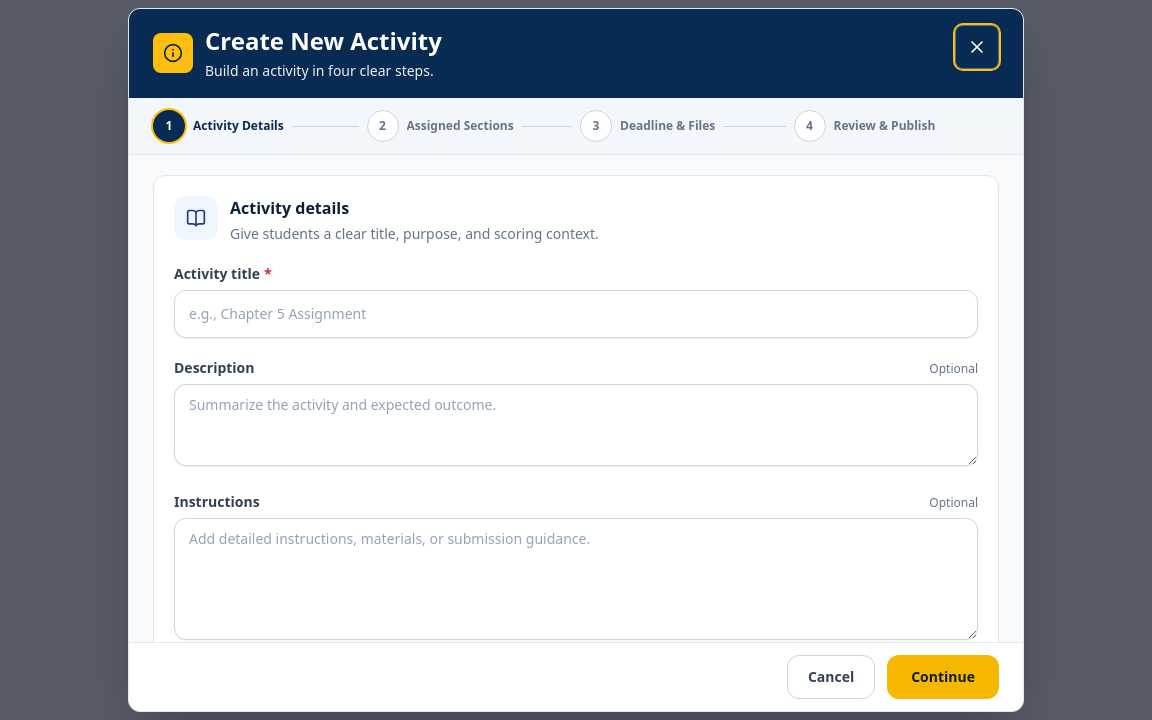
Scenario: ActivityFormWorkflow › recovers the Publish action after a request timeout without losing form data
The image size is (1152, 720).
Step 1. Type "Timeout-safe activity" into the field labelled "Activity title*" → (576,314), box [174,290,978,338]
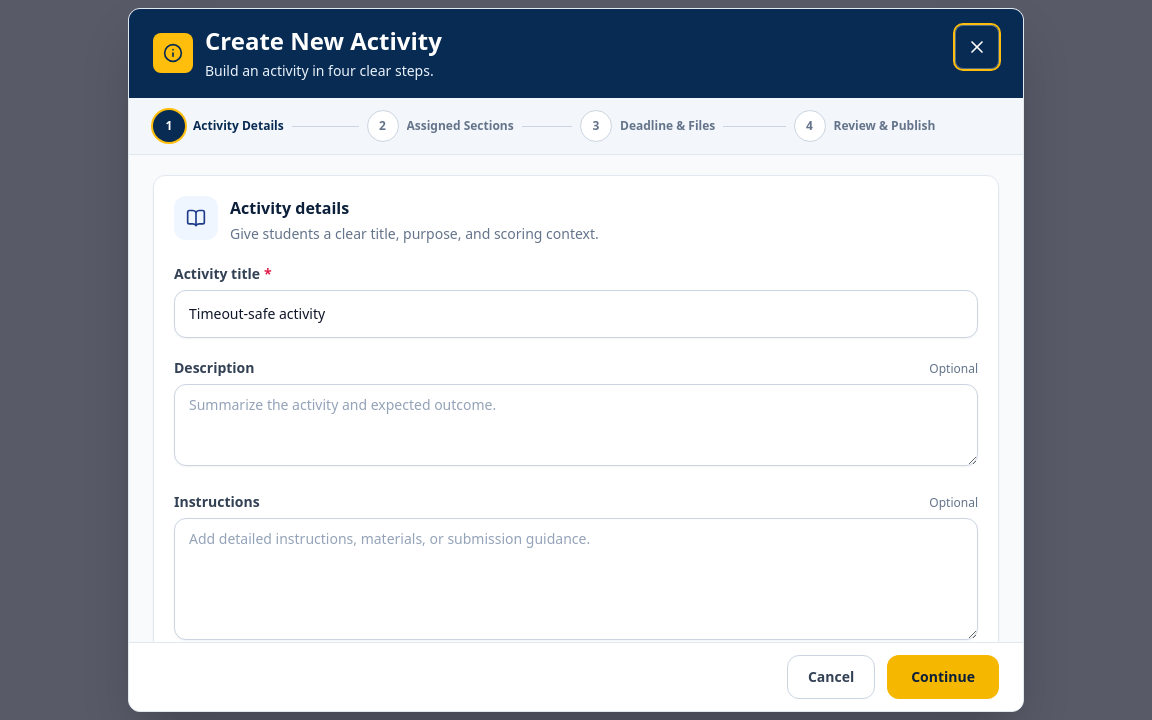
Step 2. Click the button "Continue" → (943,677), box [887,655,999,699]
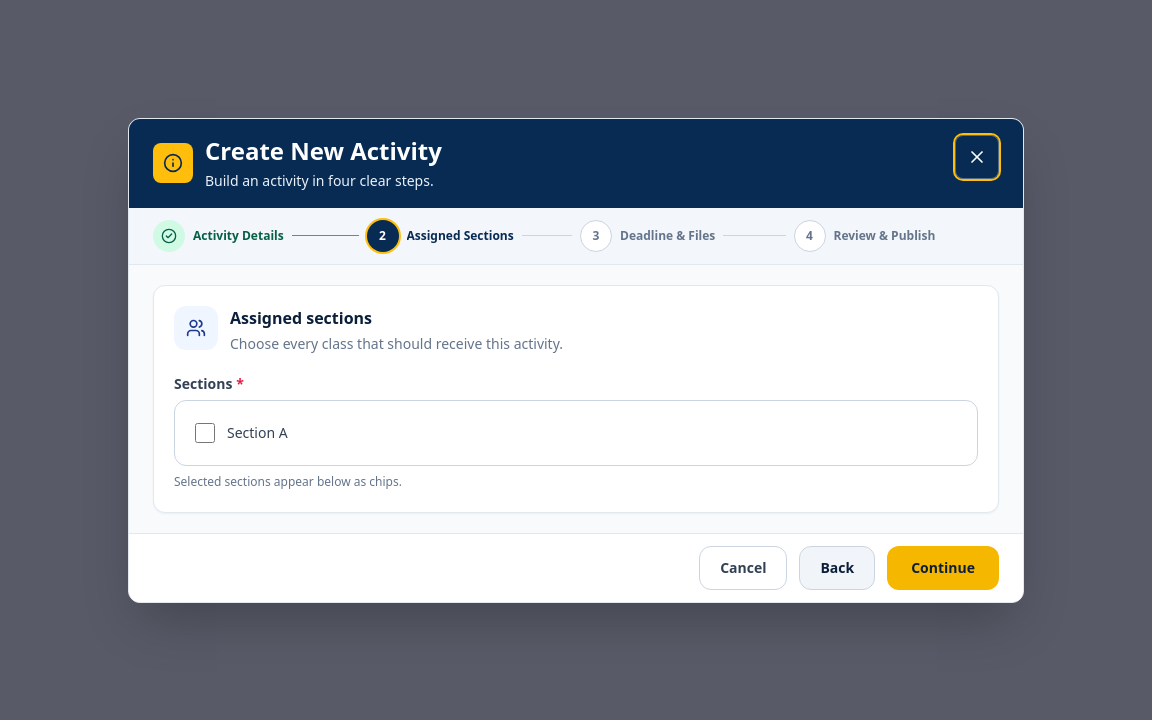
Step 3. Click the checkbox labelled "Section A" → (205,432), box [195,422,215,442]
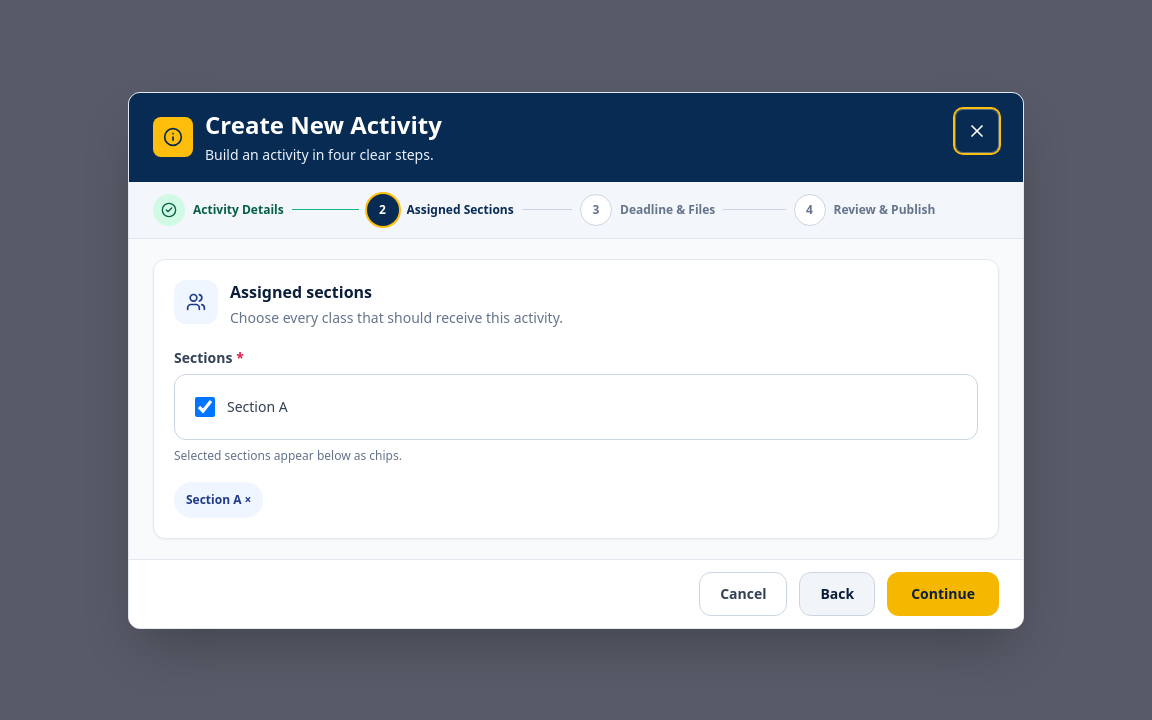
Step 4. Click the button "Continue" → (943,594), box [887,572,999,616]
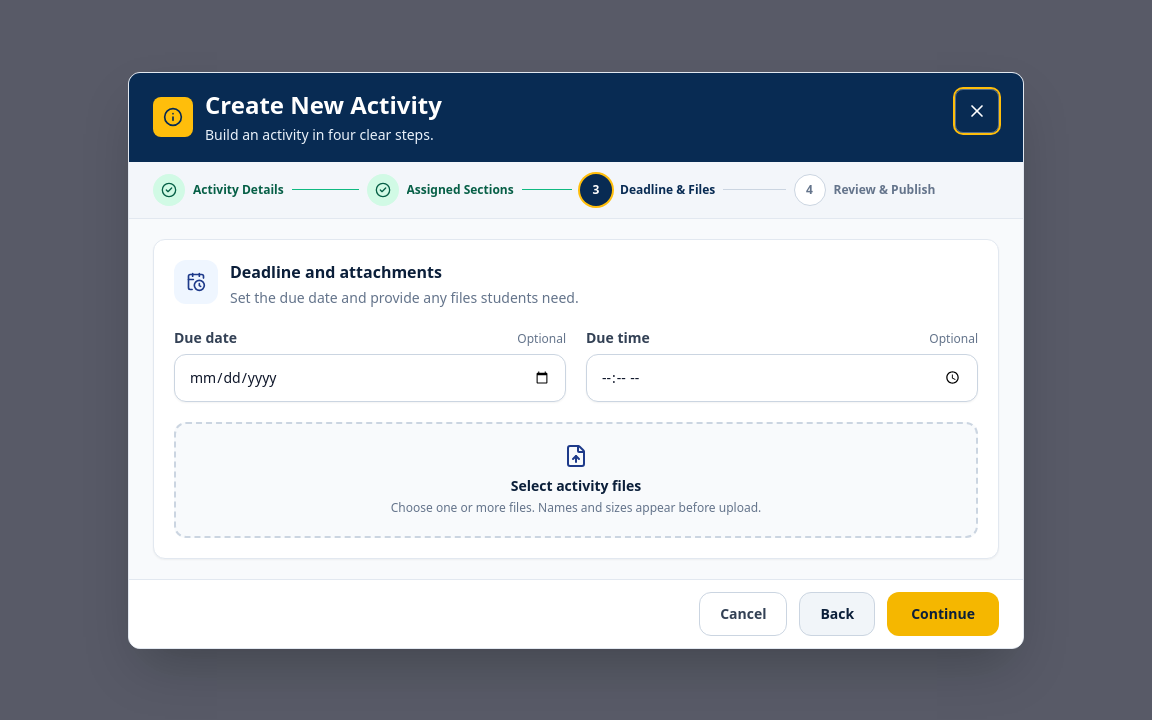
Step 5. Click the button "Continue" → (943,614), box [887,592,999,636]
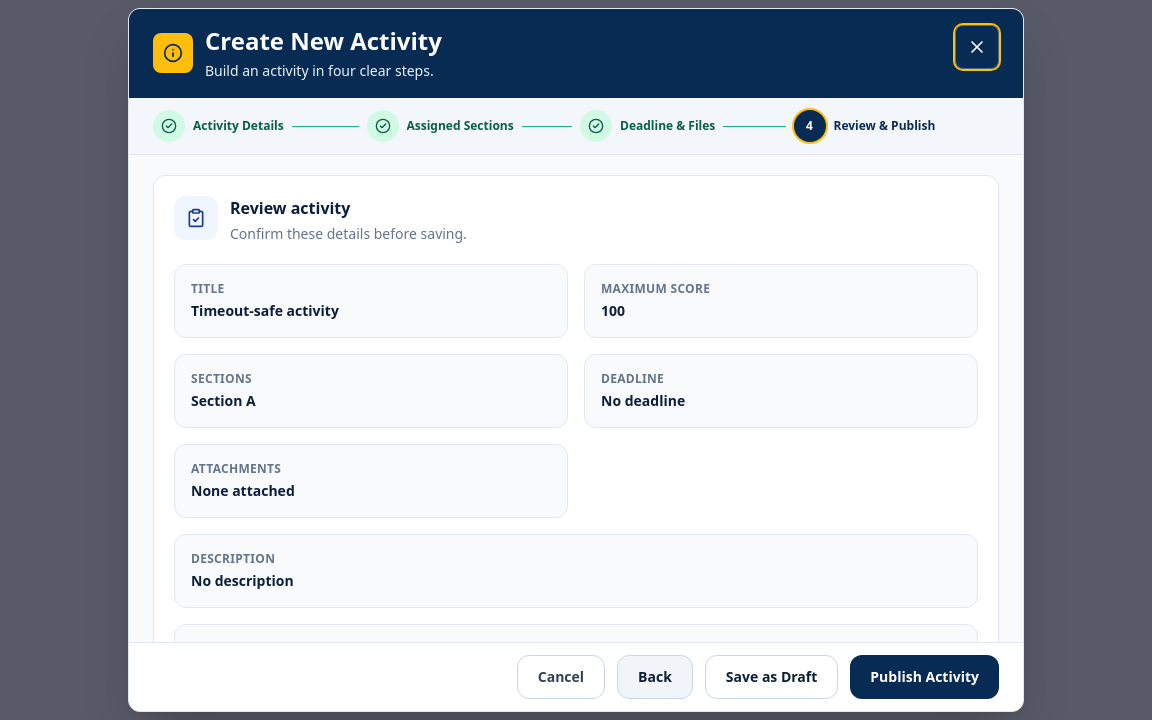
Step 6. Click the button "Publish Activity" → (925,677), box [850,655,999,699]
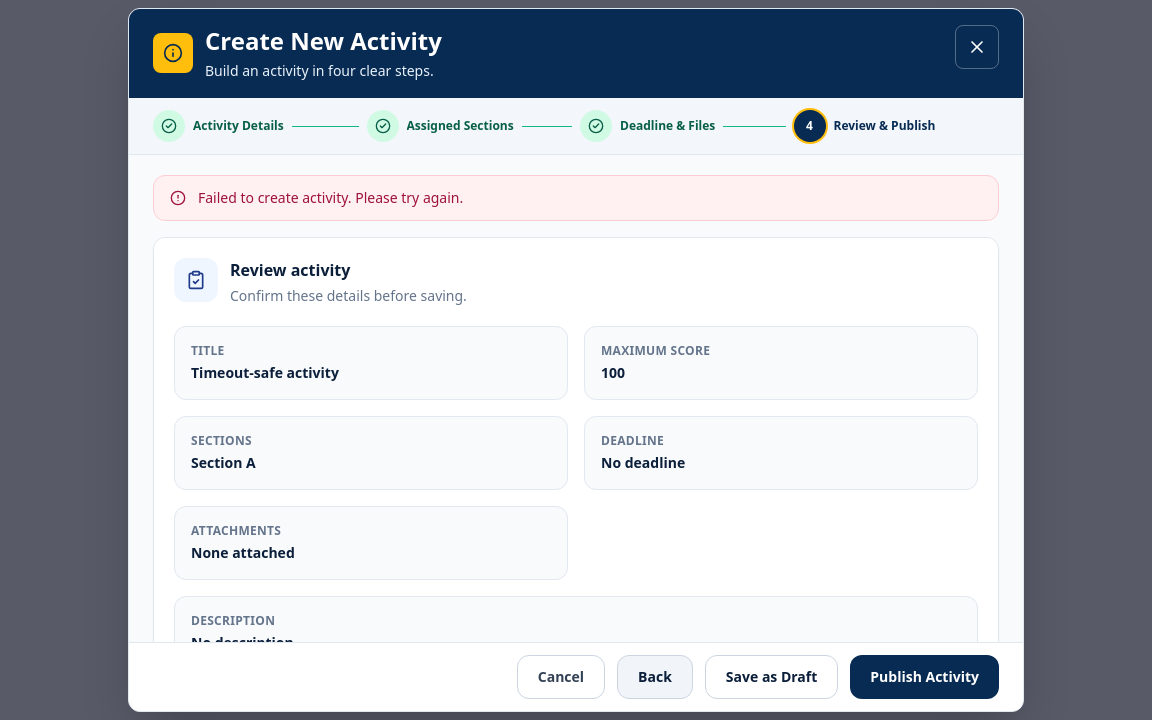
Check: the text "Timeout-safe activity" is shown, box [191,363,339,382]
Check: the button "Publish Activity" is enabled, box [850,655,999,699]
Check: the text "Failed to create activity. Please try again." is shown, box [198,188,463,208]
